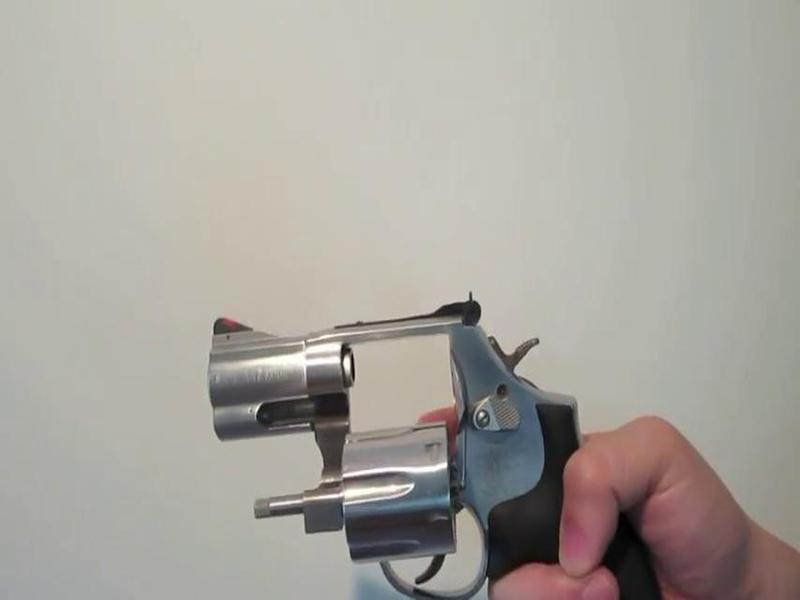Revolver: (182, 276, 649, 600)
